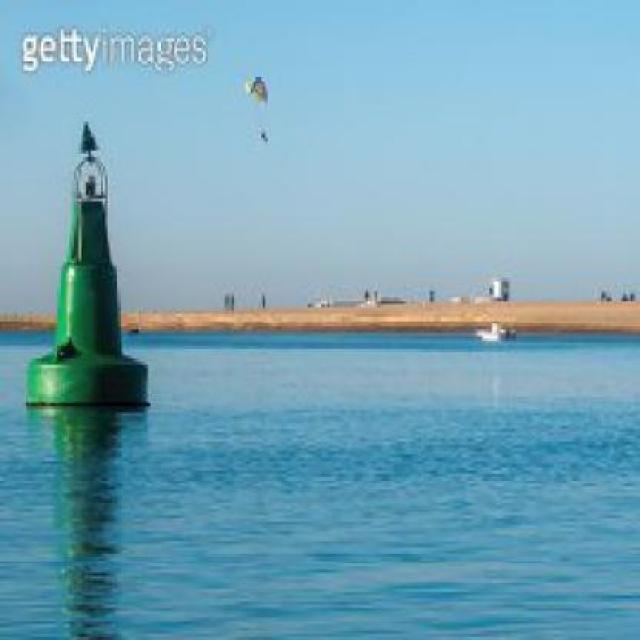buoy: (18, 110, 161, 421)
